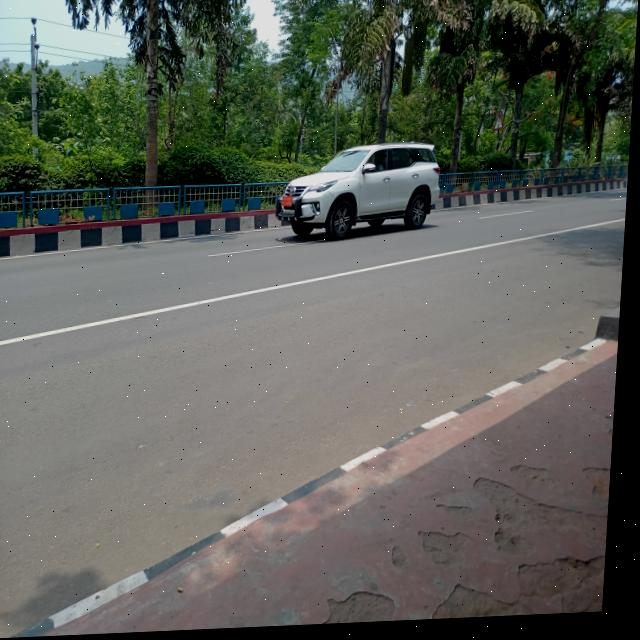car: (277, 138, 455, 242)
